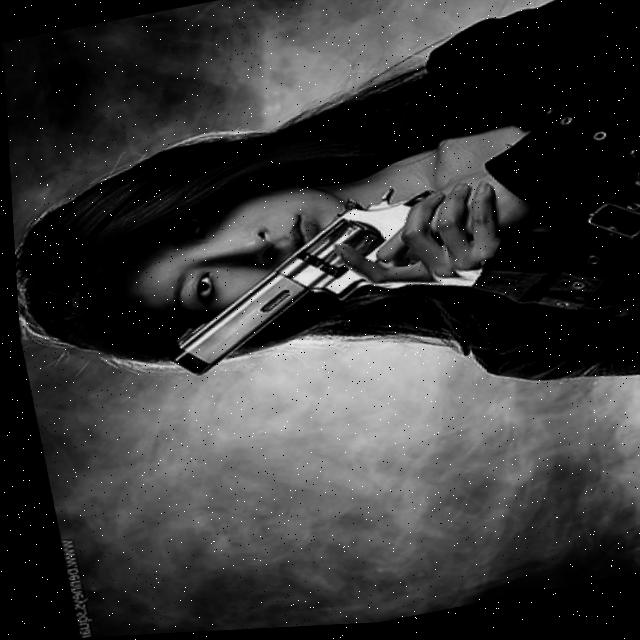pistol: (137, 185, 461, 384)
